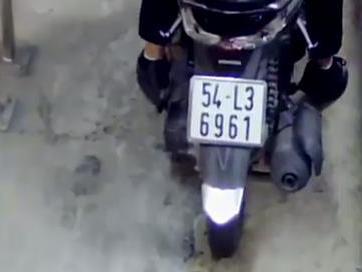num_plate: (190, 76, 266, 147)
